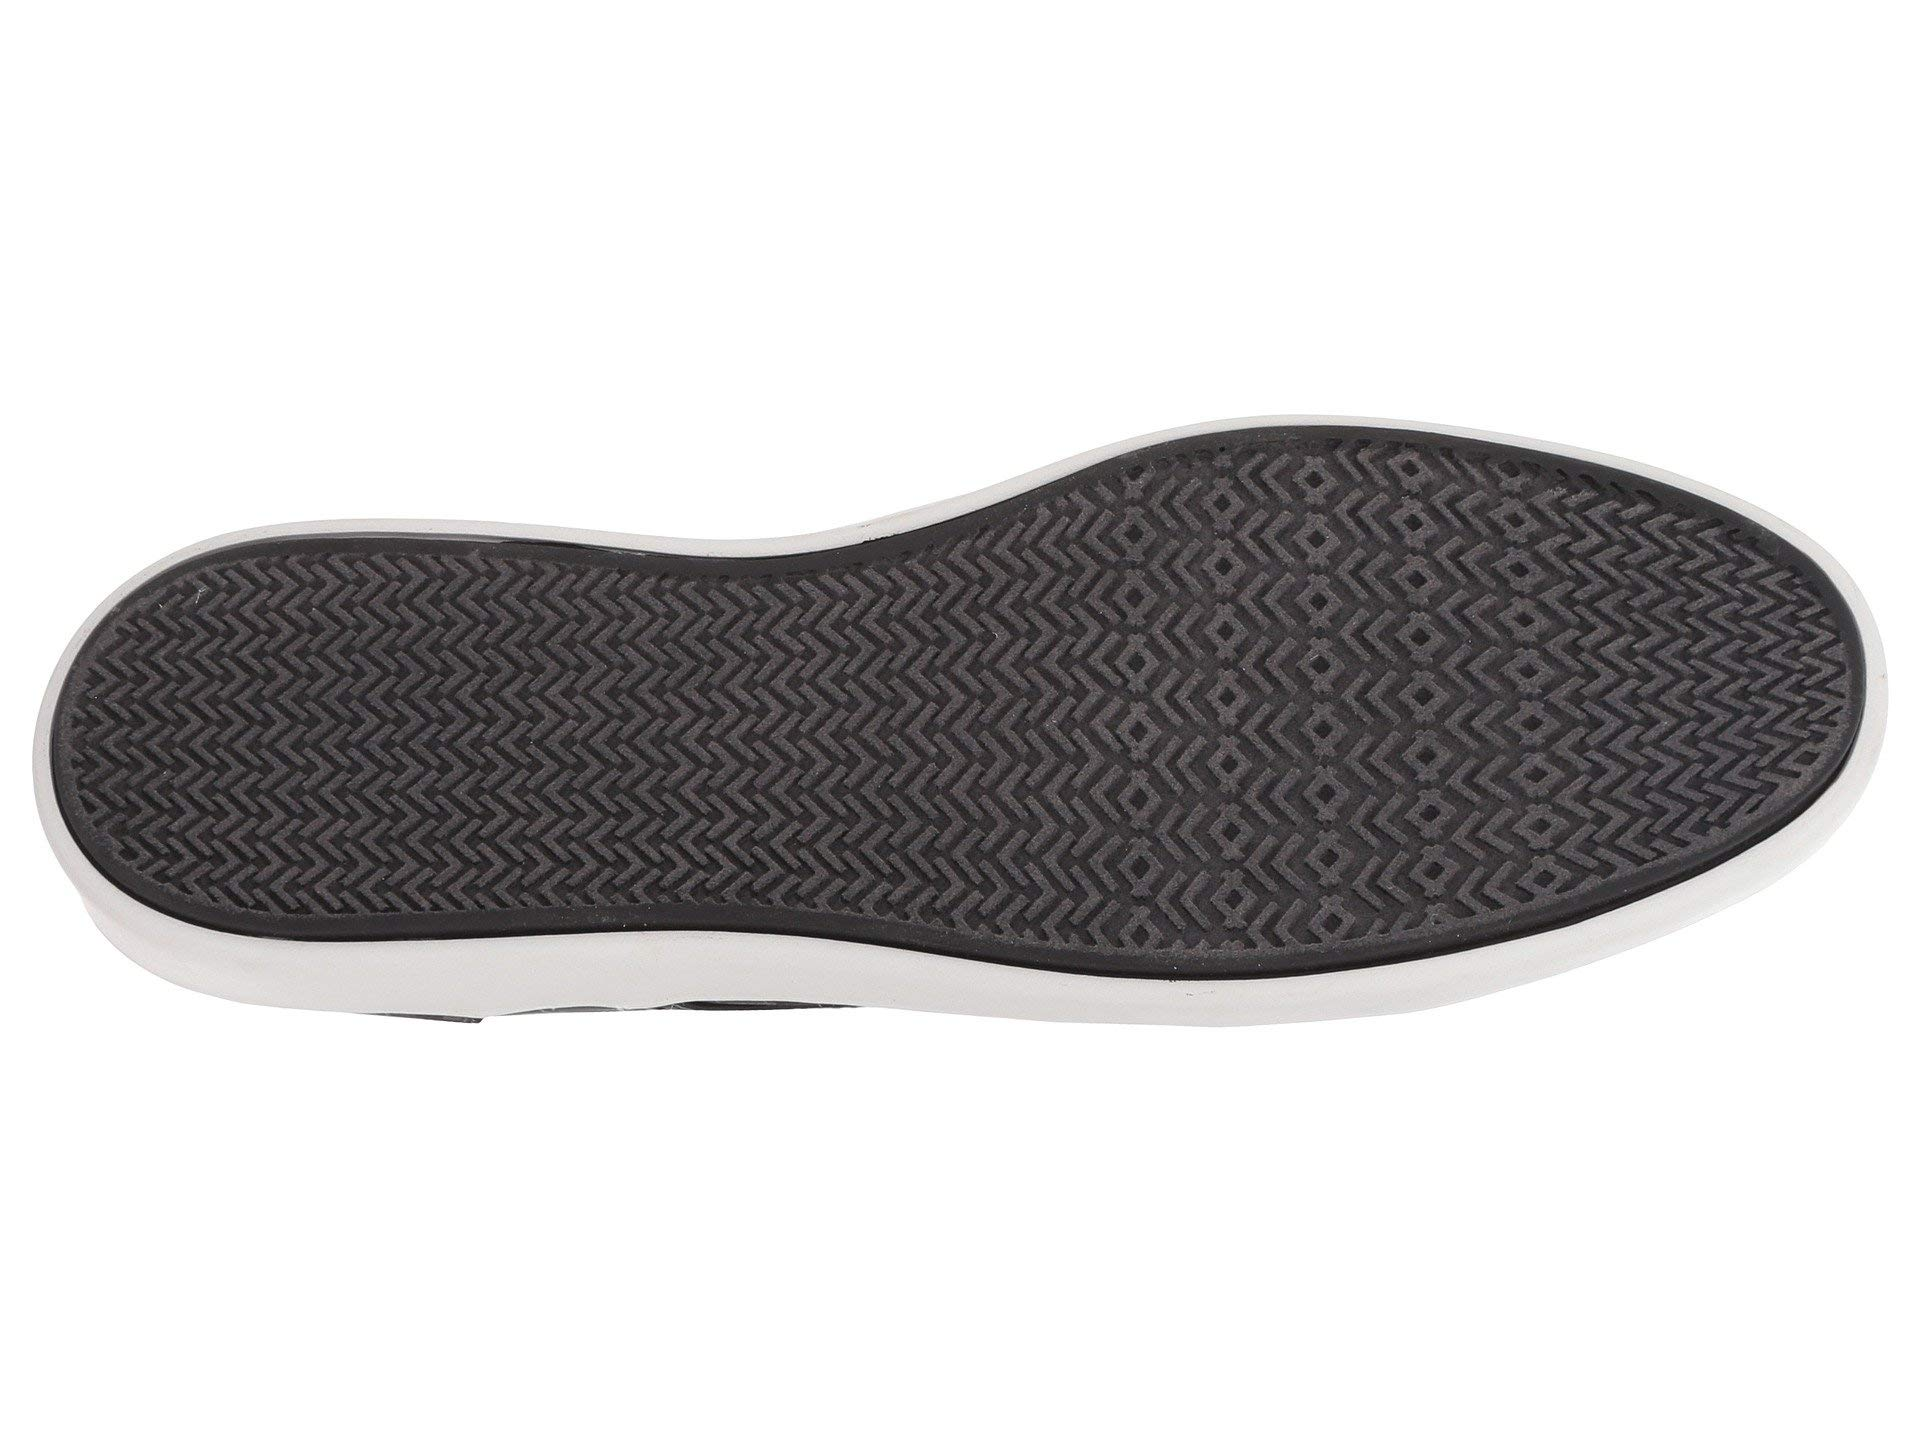chevron: (877, 551, 1822, 808), (404, 567, 872, 888), (110, 622, 392, 892), (928, 829, 1577, 902), (1107, 467, 1583, 540)
quad: (877, 551, 1822, 808), (928, 829, 1577, 902), (1107, 467, 1583, 540)
